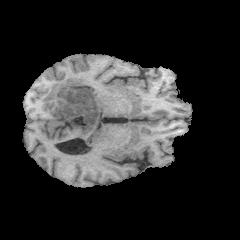glioma: (41, 77, 100, 134)
